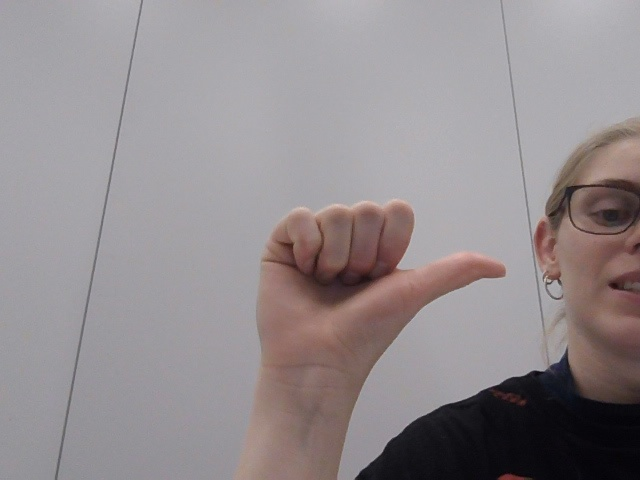left: (212, 120, 523, 431)
